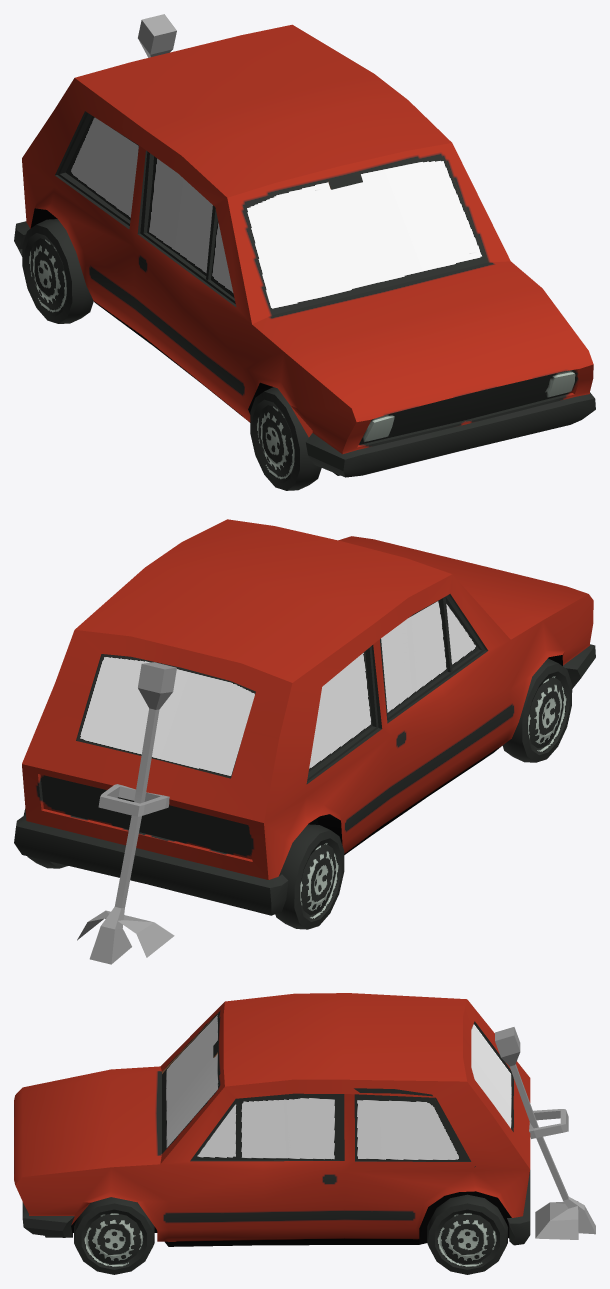
The model's file is yugo exteriour only.fbx.
3 renders of one model, top to bottom at view 1: azimuth 30°, elevation 25°; view 2: azimuth 150°, elevation 25°; view 3: azimuth 270°, elevation 25°, orthographic. The views are drawn at different scales.
Parts seen in each view (by area): view 1: exteriour, windowfront, windowside, wheelback, wheelfront_1, pCube1; view 2: exteriour, windowback, windowside, pCube1, wheelback, wheelfront_1; view 3: exteriour, windowside, wheelback_1, wheelfront, pCube1, windowfront, windowback.
Part boxes in pixels (x1,y1,x2,y2): exteriour: [14, 24, 595, 477]; windowfront: [243, 157, 487, 315]; windowside: [65, 116, 234, 297]; wheelback: [22, 219, 93, 323]; wheelfront_1: [250, 387, 321, 490]; pCube1: [138, 14, 176, 57]; exteriour: [14, 519, 595, 915]; windowback: [77, 654, 255, 778]; windowside: [308, 601, 479, 771]; pCube1: [77, 662, 176, 964]; wheelback: [275, 824, 344, 929]; wheelfront_1: [502, 658, 572, 762]; exteriour: [14, 993, 530, 1246]; windowside: [195, 1088, 475, 1167]; wheelback_1: [427, 1194, 507, 1274]; wheelfront: [74, 1197, 154, 1274]; pCube1: [495, 1027, 595, 1239]; windowfront: [162, 1014, 218, 1153]; windowback: [471, 1023, 512, 1129].
Bounding box in the file's own units: 3.48 × 3.1 × 8.18.
10 materials, 9 textured.
